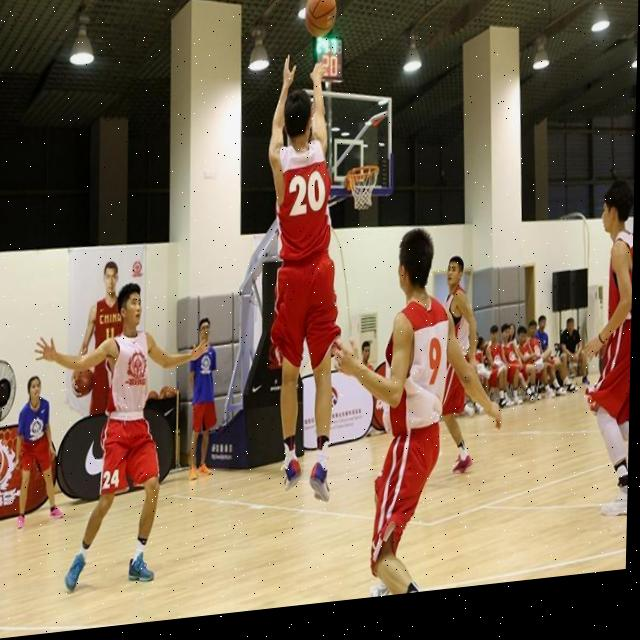basketball: (303, 0, 337, 39)
hoop: (346, 163, 380, 214)
